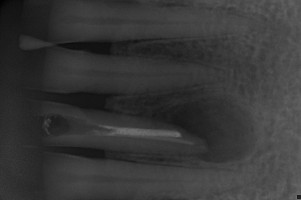Furcation Involvement: (148, 95, 261, 162)
